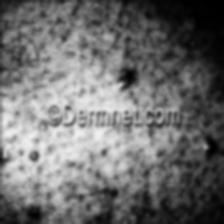Unclassified: (0, 134, 38, 168), (102, 59, 140, 87), (26, 200, 47, 223), (200, 130, 215, 157), (185, 6, 199, 24), (89, 219, 112, 224)
